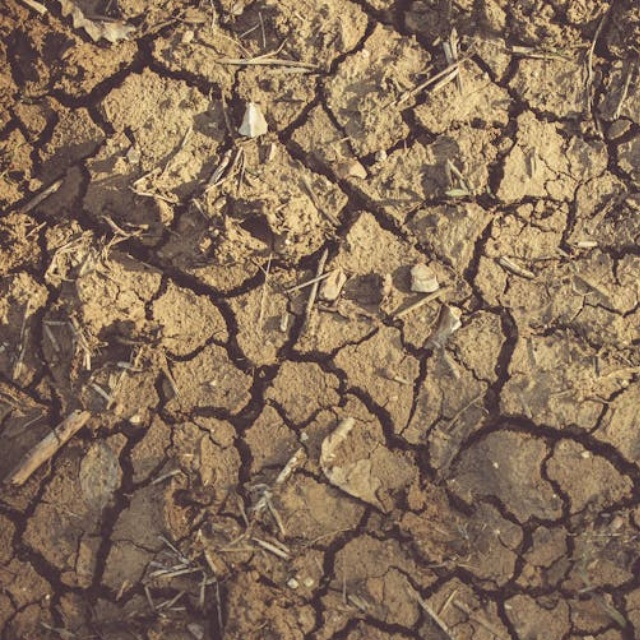网状裂隙: (30, 136, 640, 640)
